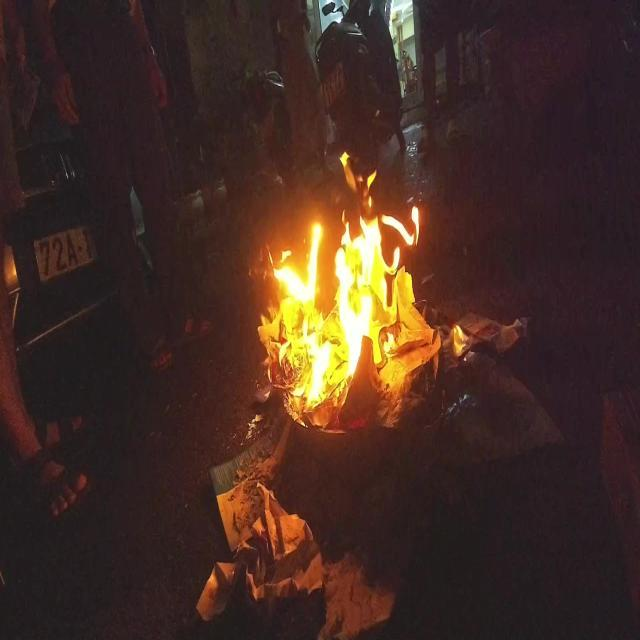Fire: (266, 148, 474, 408)
